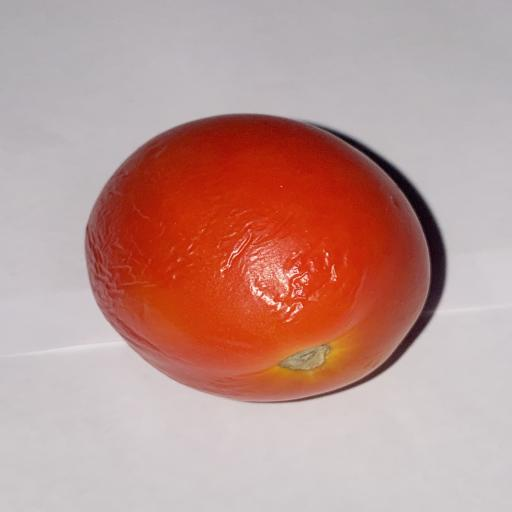spoiled: (86, 115, 430, 401)
